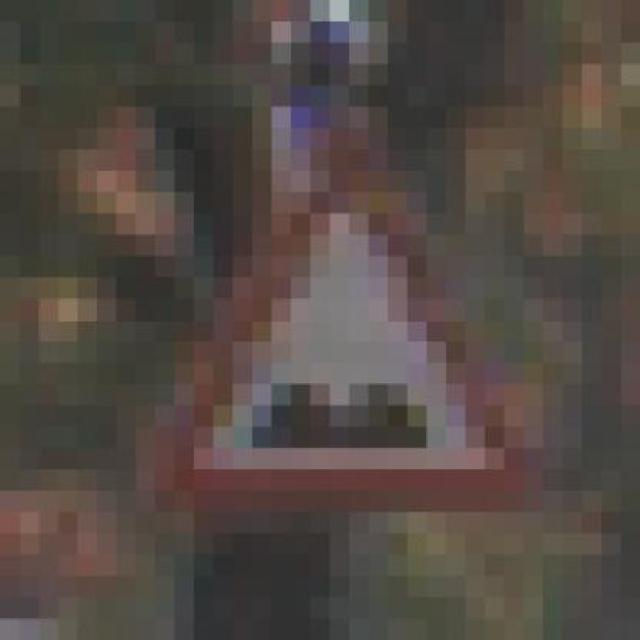Uneven Road: (147, 110, 535, 516)
